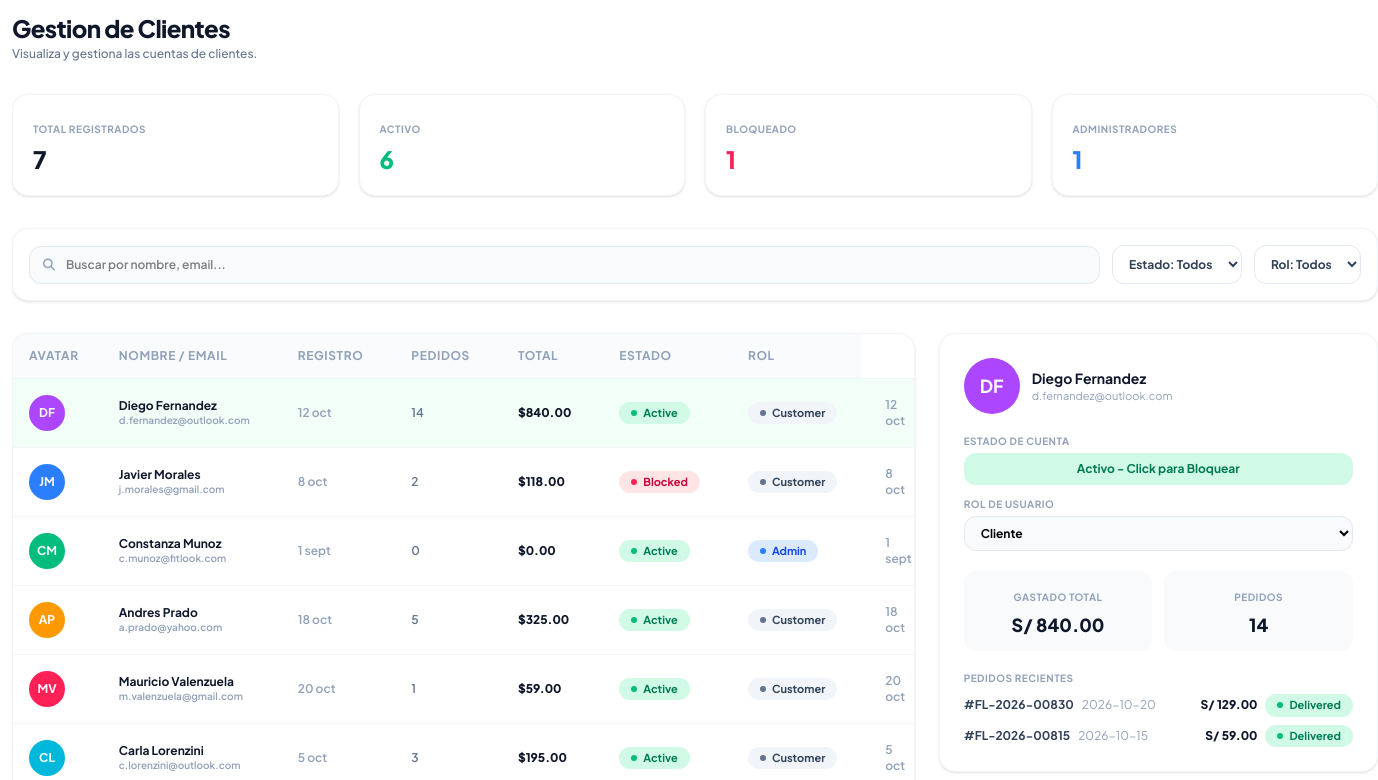
AdminCustomers › bloquea y reactiva el estado de la cuenta
Click the button "Activo - Click para Bloquear" at [1158, 469], box [964, 453, 1353, 485]
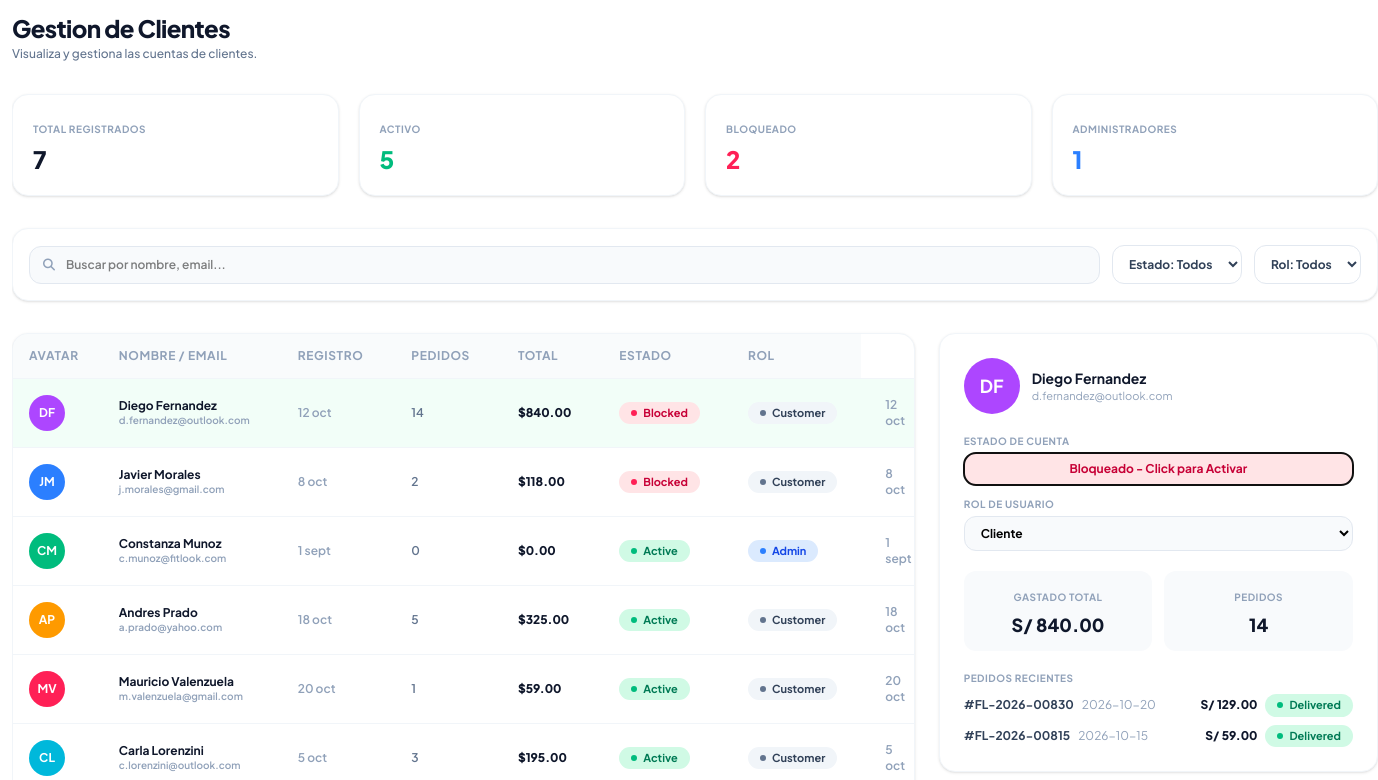
Now the button "Bloqueado - Click para Activar" is shown
Click the button "Bloqueado - Click para Activar" at [1158, 469], box [964, 453, 1353, 485]
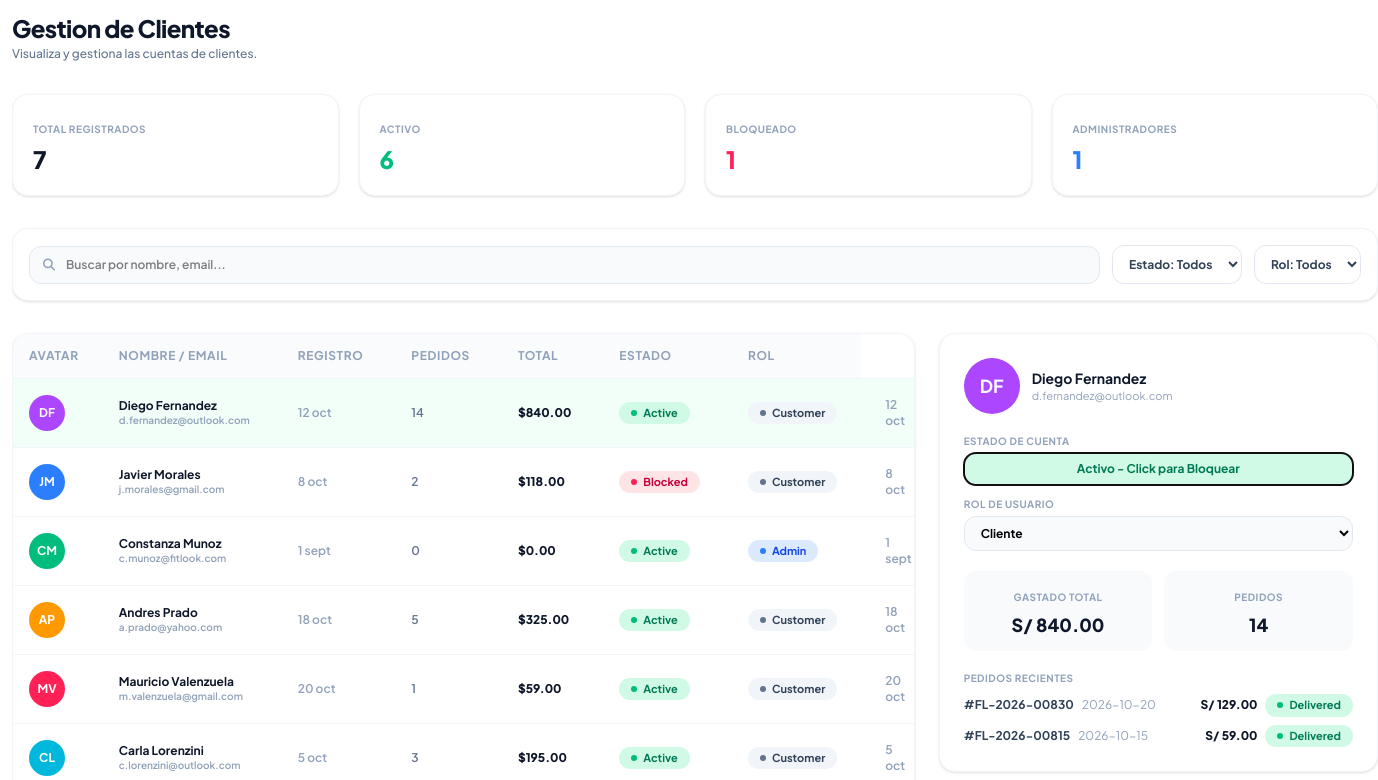
Now the button "Activo - Click para Bloquear" is shown, box [964, 453, 1353, 485]
